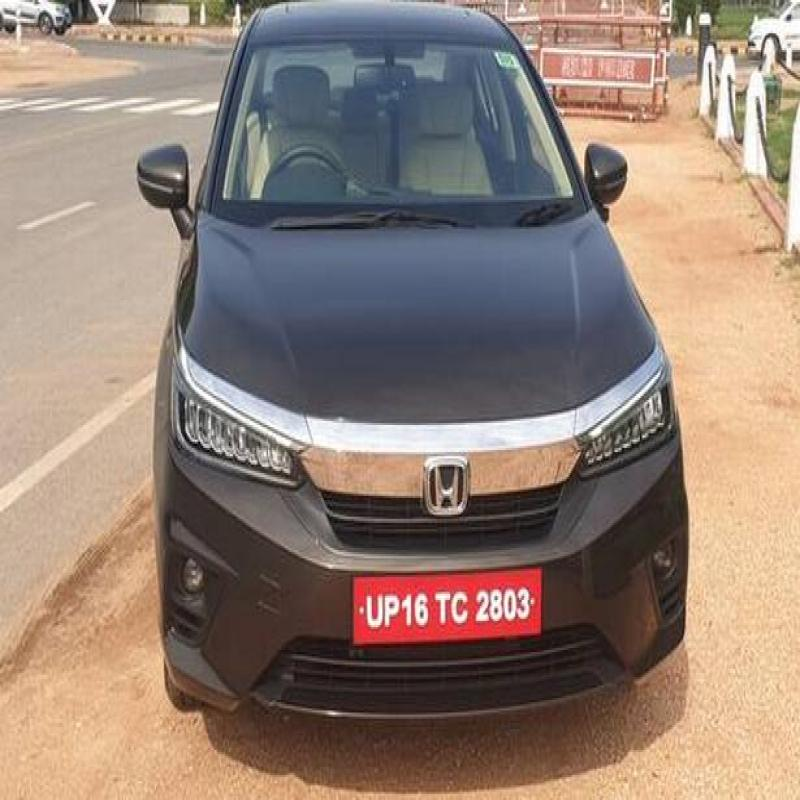car: (156, 0, 694, 723)
